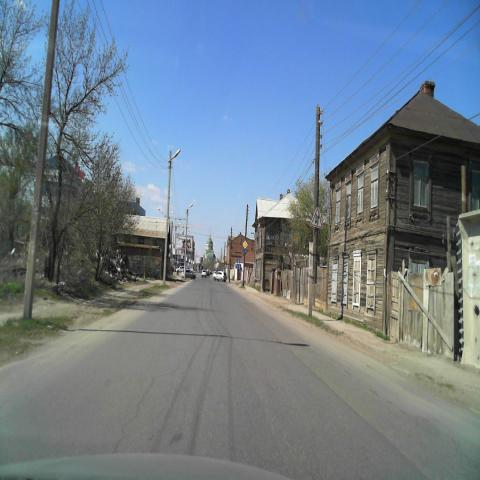1_21: (310, 207, 323, 229)
